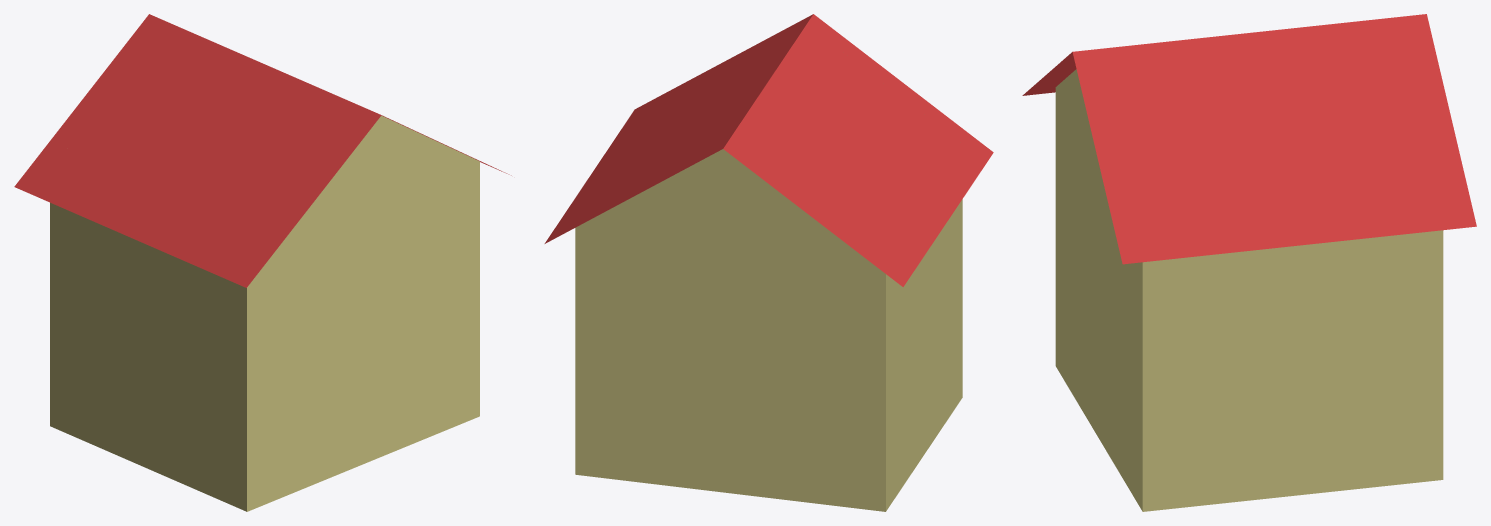
3 renders of one model, left to right at view 1: azimuth 30°, elevation 25°; view 2: azimuth 150°, elevation 25°; view 3: azimuth 270°, elevation 25°, orthographic. The views are drawn at different scales.
Parts seen in each view (by area): view 1: group_5, group_3, group_4; view 2: group_5, group_3, group_4; view 3: group_5, group_3, group_4.
Boxes of the visible parts, bbox=[...] form: group_5: bbox=[50, 115, 479, 511]; group_3: bbox=[50, 14, 373, 286]; group_4: bbox=[14, 15, 511, 287]; group_5: bbox=[575, 149, 962, 511]; group_3: bbox=[544, 14, 962, 283]; group_4: bbox=[668, 14, 993, 286]; group_5: bbox=[1055, 69, 1443, 511]; group_3: bbox=[1022, 14, 1476, 264]; group_4: bbox=[1400, 14, 1426, 91].
Bounding box in the file's own units: 13.19 × 12.3 × 11.65.
